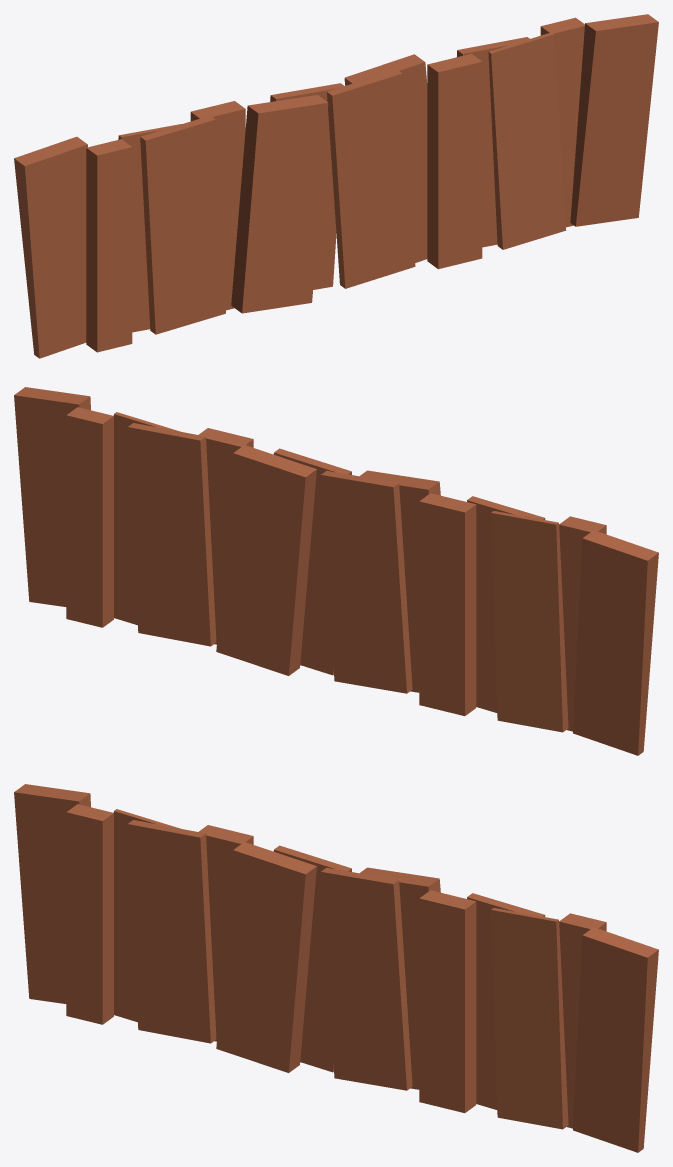
The model's file is waterstop.fbx.
3 renders of one model, top to bottom at view 1: azimuth 30°, elevation 25°; view 2: azimuth 150°, elevation 25°; view 3: azimuth 330°, elevation 25°, orthographic. The views are drawn at different scales.
Visible parts, largest first — view 1: path_wood (×2), path_woodEnd (×2); view 2: path_wood (×2), path_woodEnd (×2); view 3: path_wood (×2), path_woodEnd (×2).
Boxes of the visible parts, box(x1,y1,x2,y2) form: path_wood (×2): box(86, 17, 584, 352); path_woodEnd (×2): box(14, 14, 658, 358); path_wood (×2): box(66, 407, 606, 731); path_woodEnd (×2): box(14, 387, 658, 755); path_wood (×2): box(66, 804, 606, 1128); path_woodEnd (×2): box(14, 784, 658, 1152).
Bounding box in the file's own units: 16.57 × 5.14 × 1.
